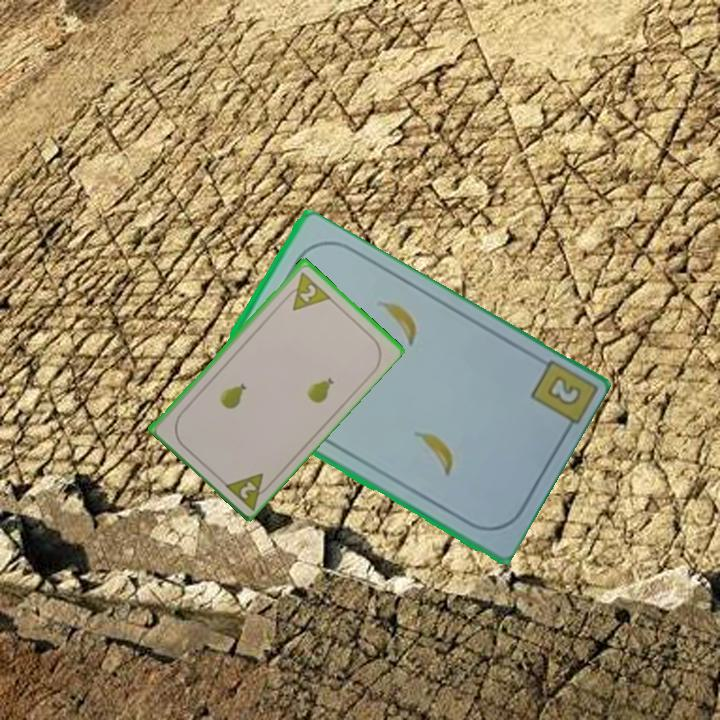2b: (542, 371, 584, 409)
2p: (220, 468, 276, 512), (281, 268, 332, 313)
